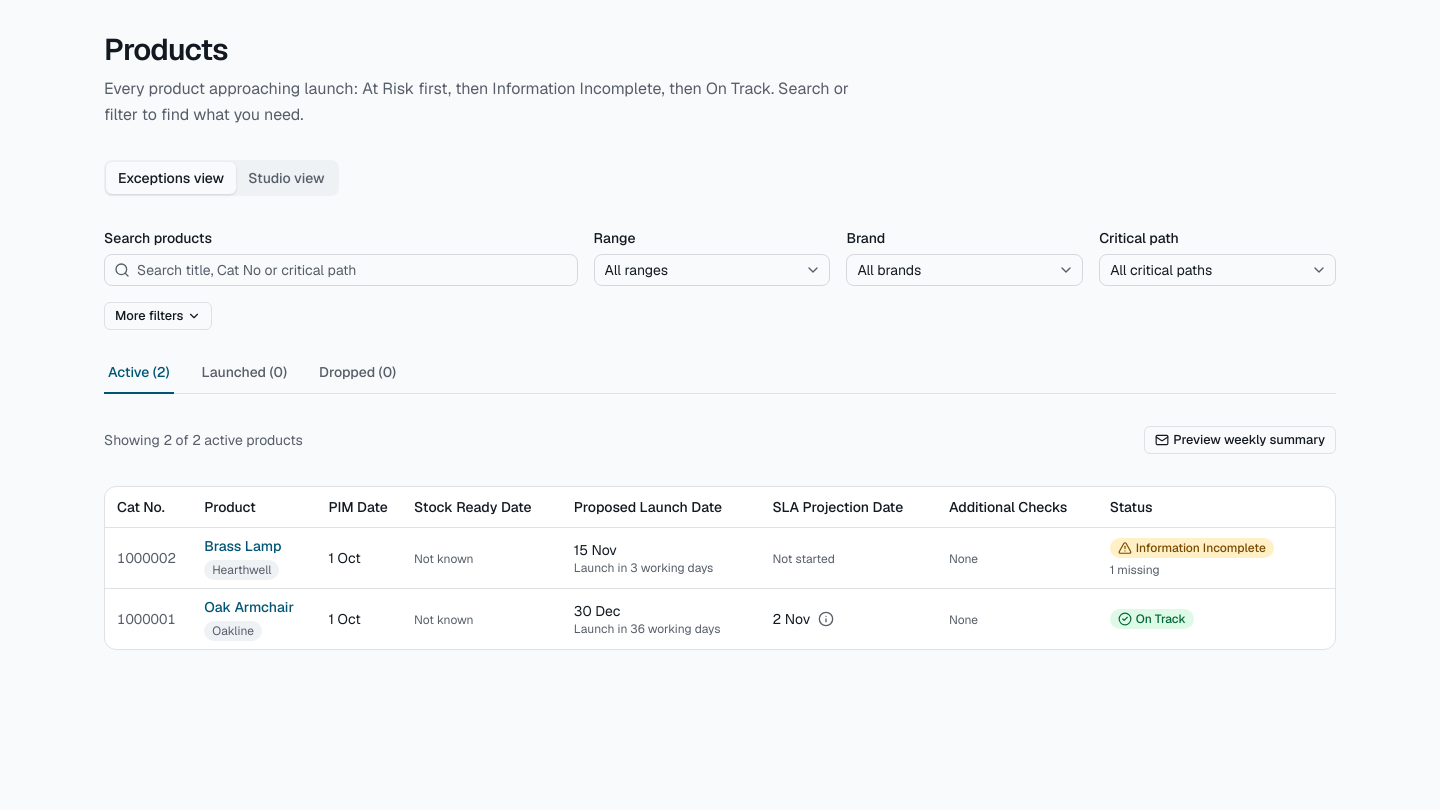
Test: ProductsView › explains when nothing matches and offers a way back
The width and height of the screenshot is (1440, 810).
Type "zzzz" into the search field labelled "Search products" at (341, 270), box [104,254,578,286]
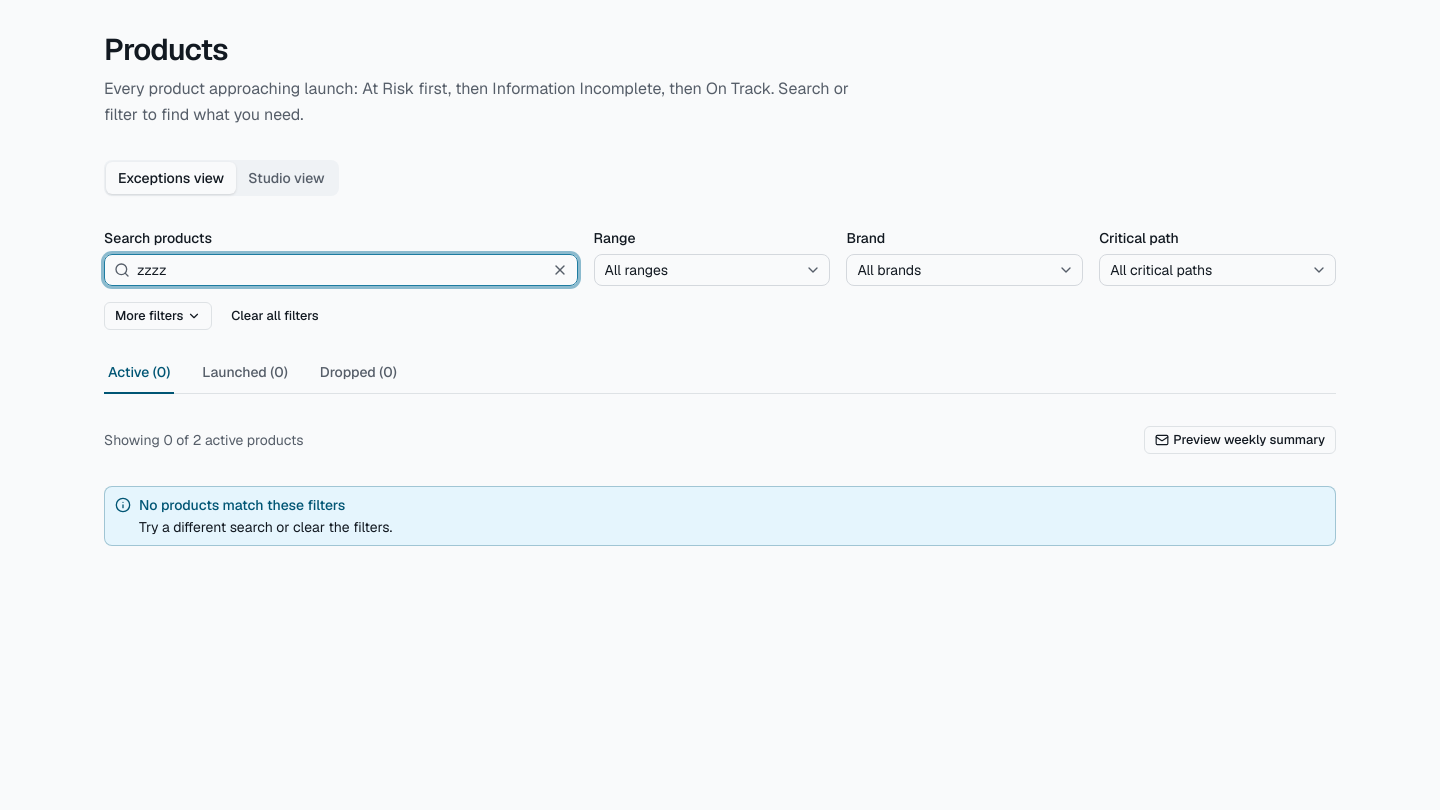
Now the text "No products match these filters" is shown, box [139,496,345,514]
Now the table is gone
Click the button "Clear all filters" at (275, 316), box [220,302,330,330]
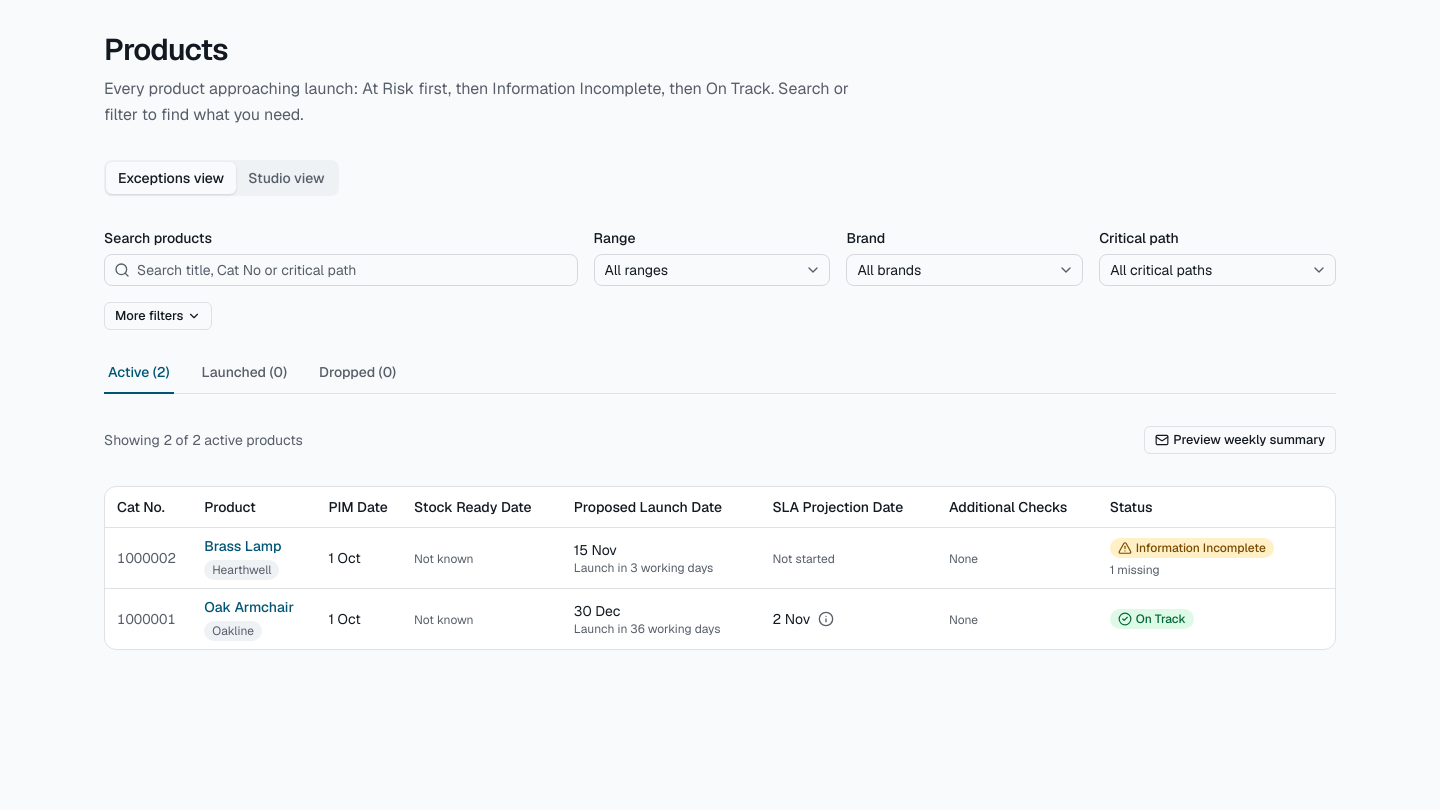
Now the text "Showing 2 of 2 active products" is shown, box [104,430,303,450]
Now the text "No products match these filters" is gone
